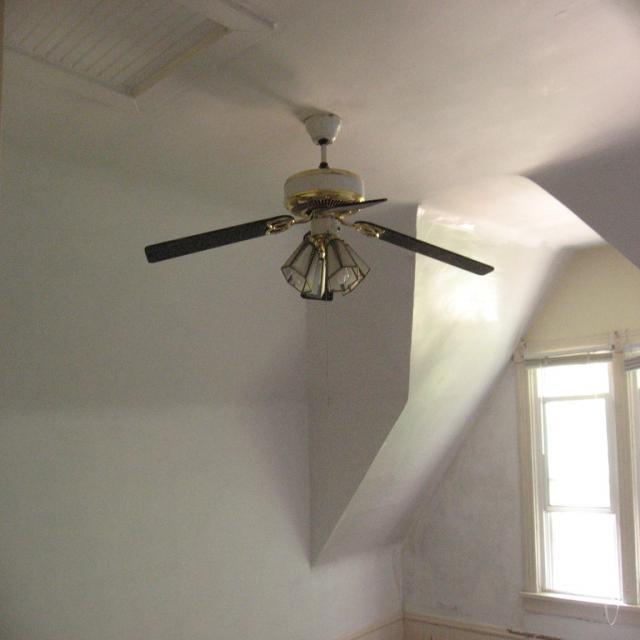bulb_off: (327, 268, 360, 287)
fan_off: (141, 117, 496, 284)
